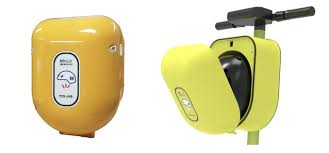kick_handler: (214, 6, 316, 31)
